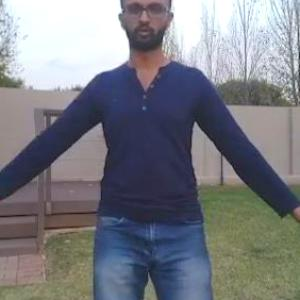land: (13, 0, 280, 299)
